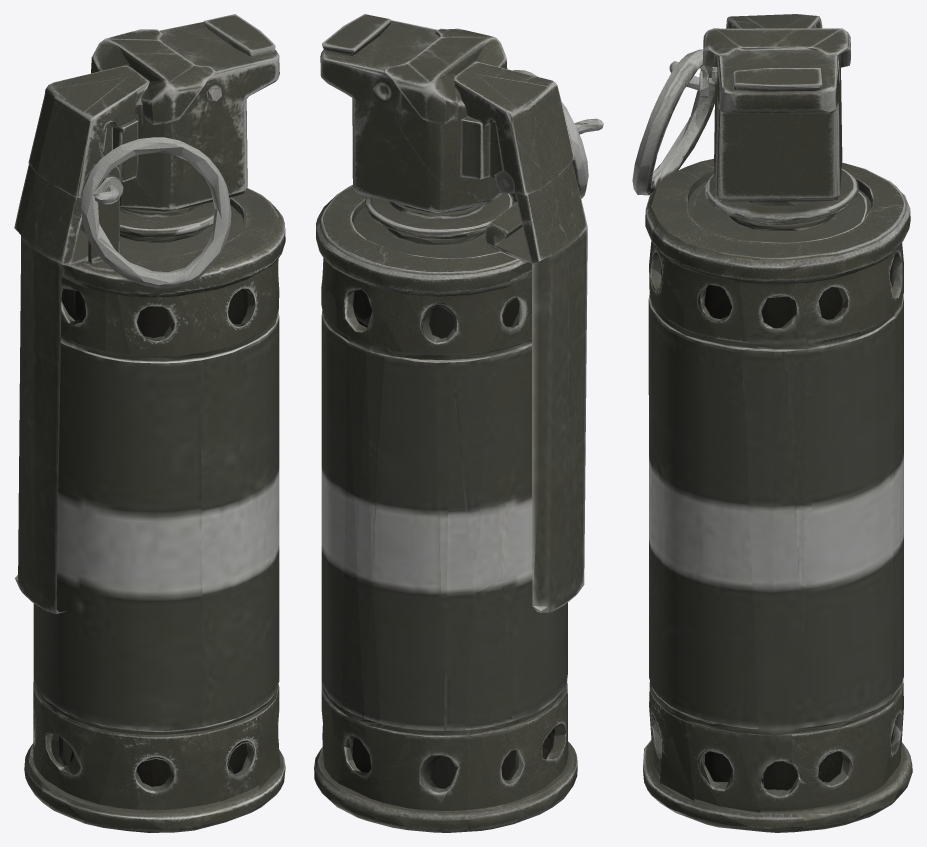
Rendered from smoke.glb.
3 renders of one model, left to right at view 1: azimuth 30°, elevation 25°; view 2: azimuth 150°, elevation 25°; view 3: azimuth 270°, elevation 25°, orthographic. The views are drawn at different scales.
Parts seen in each view (by area): view 1: Body; view 2: Body; view 3: Body.
Part boxes in pixels (box(x1,y1,x2,y2)): Body: box(14, 14, 285, 832); Body: box(314, 14, 603, 832); Body: box(632, 14, 912, 832).
Bounding box in the file's own units: 0.0473 × 0.14 × 0.0475.
Materials: 1 (1 with a texture image).
